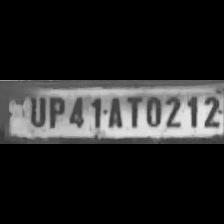0: (142, 93, 162, 127)
1: (86, 94, 104, 130), (183, 92, 199, 128)
2: (162, 92, 182, 128), (201, 92, 221, 128)
4: (66, 94, 86, 128)
A: (102, 94, 124, 130)
P: (46, 93, 64, 127)
T: (124, 94, 142, 128)
U: (26, 93, 46, 127)
